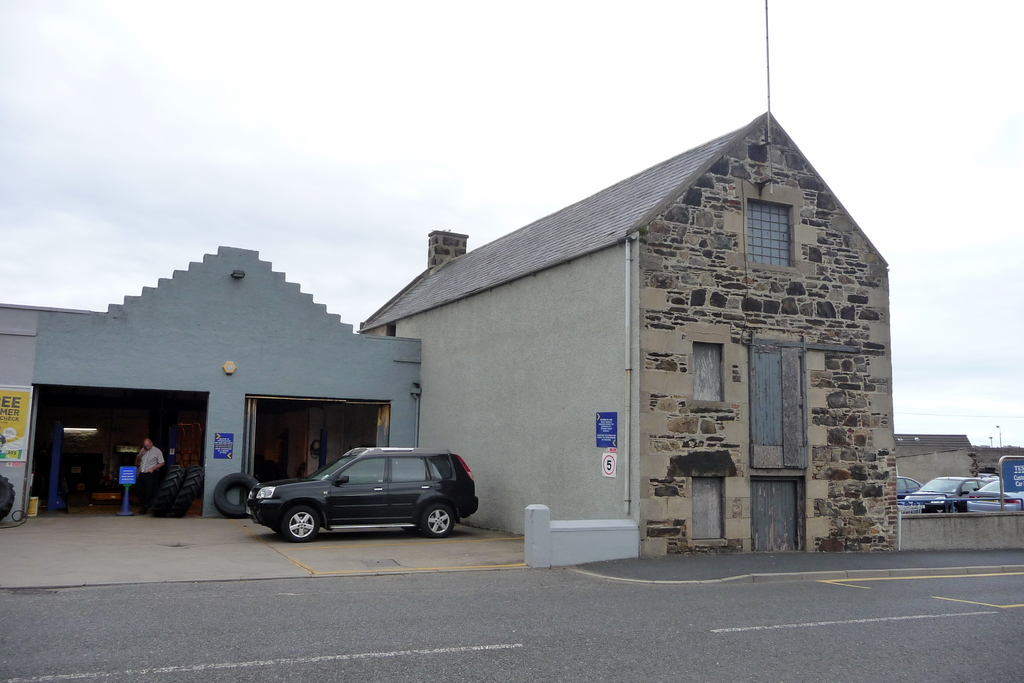Car: (243, 444, 484, 542), (899, 472, 993, 513), (963, 475, 1023, 513), (899, 472, 929, 500)
